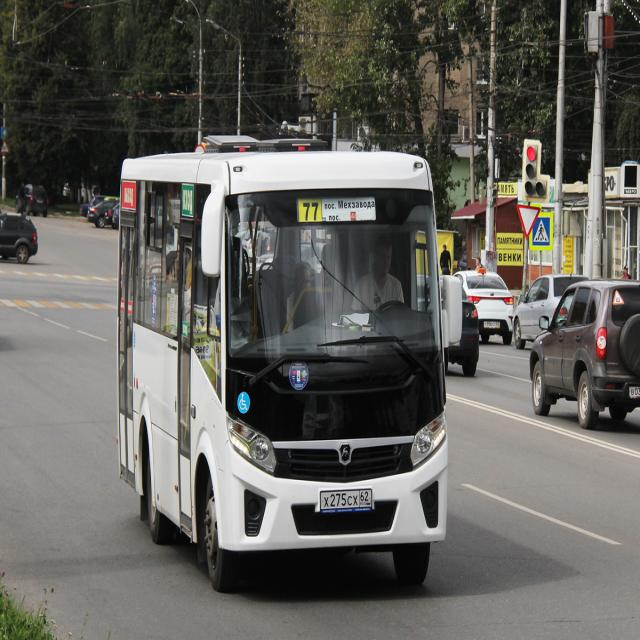number-of-bus: (300, 196, 323, 224)
